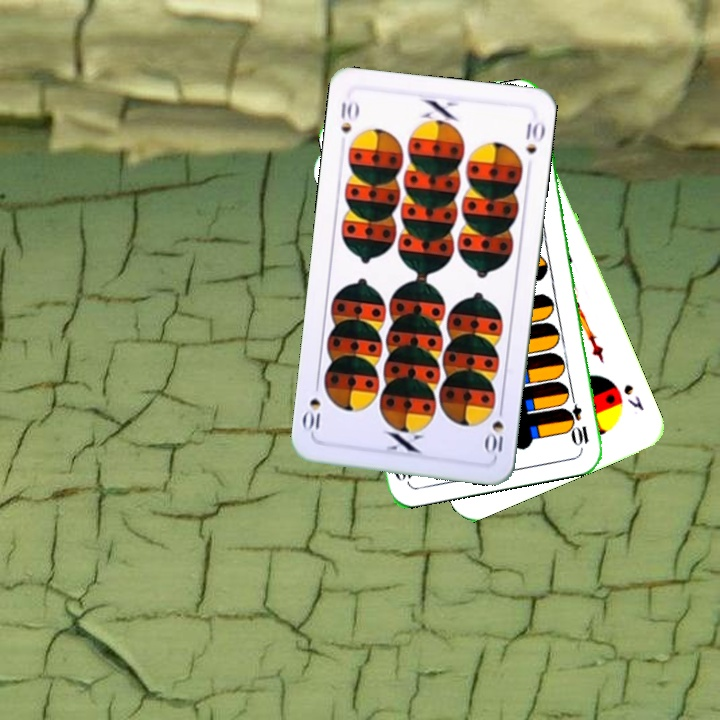E10: (564, 389, 592, 449)
S10: (483, 400, 506, 455), (335, 97, 361, 136)
SK: (619, 380, 647, 413)
